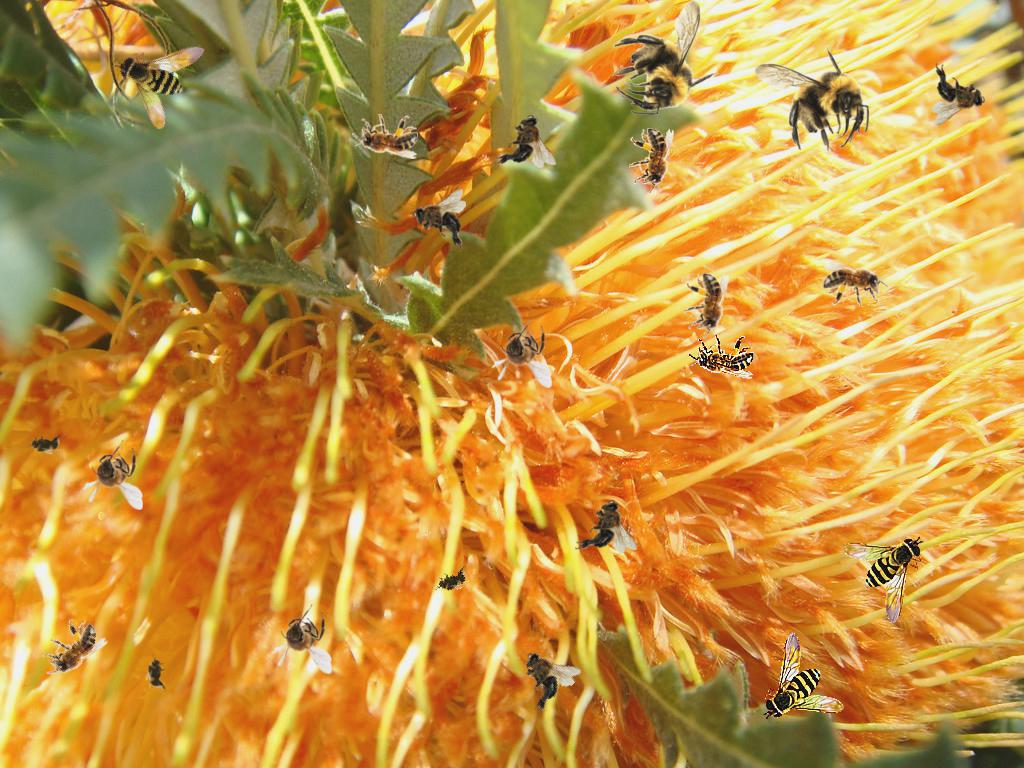Bee: (111, 21, 229, 135), (612, 0, 719, 115), (754, 45, 869, 152), (842, 536, 924, 624), (762, 632, 844, 720), (502, 636, 585, 718), (32, 610, 110, 691), (491, 318, 552, 388), (271, 604, 332, 674), (82, 440, 143, 510), (494, 115, 556, 168), (575, 500, 637, 553), (932, 63, 985, 125), (413, 189, 466, 251), (629, 128, 674, 194), (684, 273, 729, 339), (352, 114, 418, 159), (688, 334, 754, 379), (823, 262, 889, 307), (429, 563, 475, 599), (145, 653, 167, 693), (25, 433, 65, 455)
